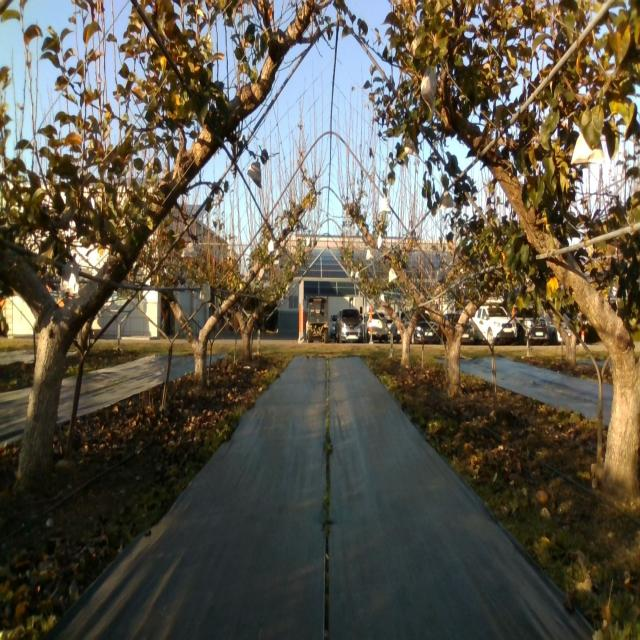pearbags: (570, 131, 603, 166), (420, 66, 438, 115), (60, 253, 80, 297), (247, 158, 262, 190), (438, 189, 454, 209)
